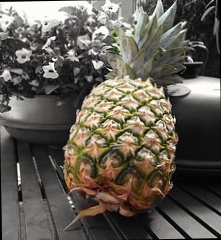Pineapple: (64, 2, 207, 217)
